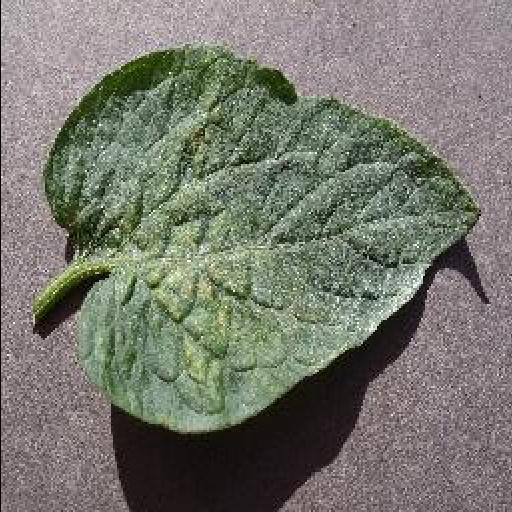disease_tomato: (42, 44, 484, 434)
